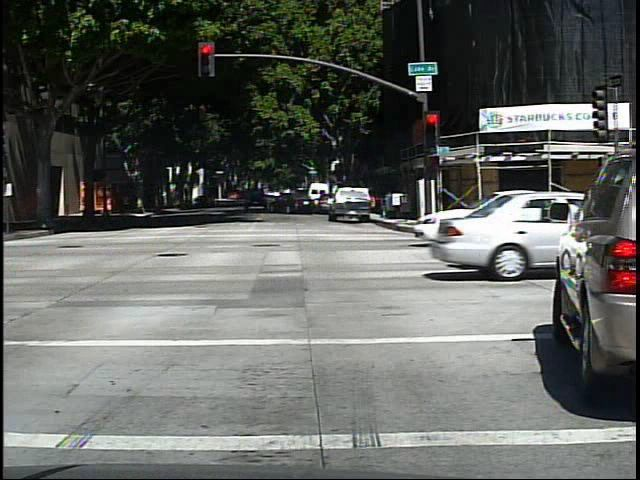person: (77, 186, 94, 220)
